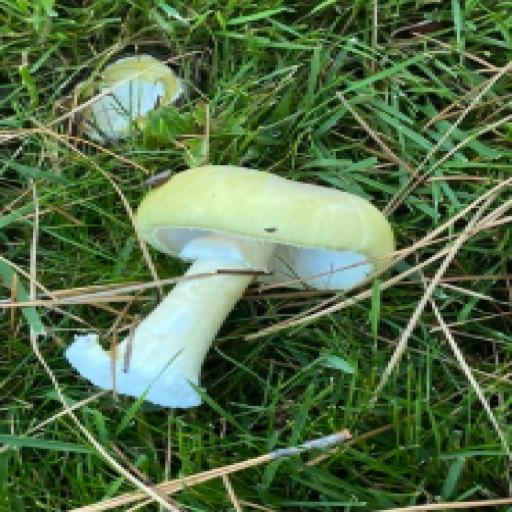Death Cap: (72, 137, 392, 455)
